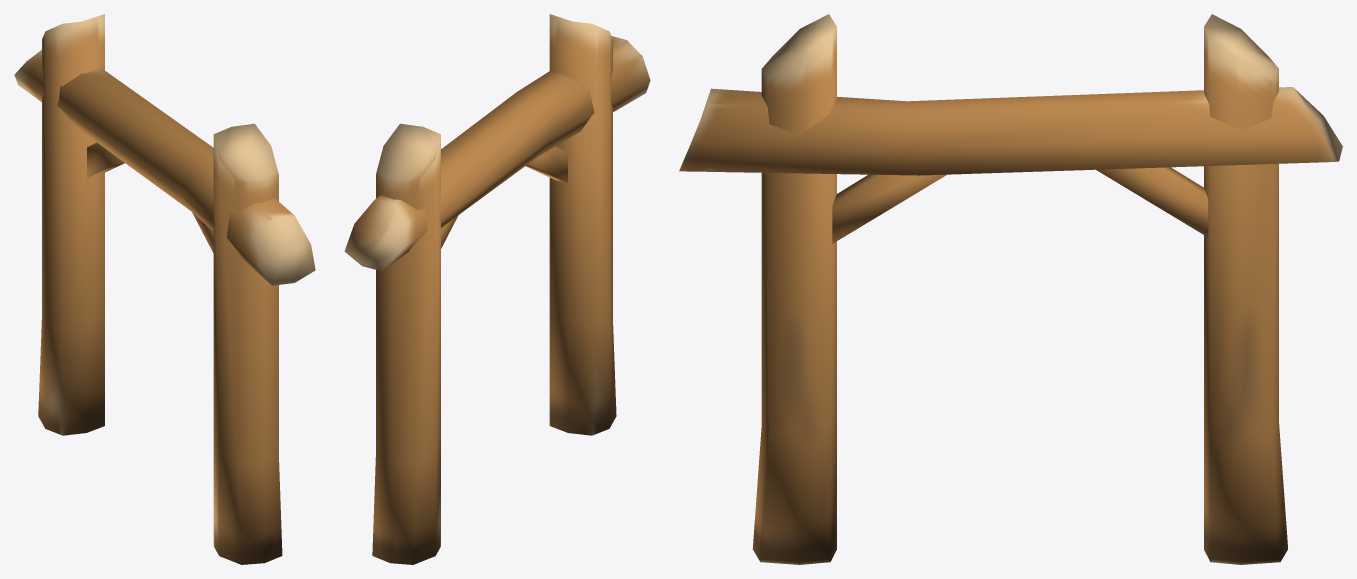
Rendered from gate.fbx.
3 renders of one model, left to right at view 1: azimuth 30°, elevation 25°; view 2: azimuth 150°, elevation 25°; view 3: azimuth 270°, elevation 25°, orthographic. The views are drawn at different scales.
Parts seen in each view (by area): view 1: gateright, gate, gatetop, plank2; view 2: gate, gateright, gatetop, plank1; view 3: gatetop, gate, gateright, plank2, plank1.
Part boxes in pixels (x1,y1,x2,y2): gateright: [213, 123, 282, 564]; gate: [38, 14, 104, 435]; gatetop: [14, 50, 315, 285]; plank2: [87, 142, 124, 177]; gate: [372, 123, 440, 564]; gateright: [549, 14, 616, 435]; gatetop: [344, 36, 650, 271]; plank1: [526, 146, 567, 182]; gatetop: [679, 87, 1342, 175]; gate: [1204, 14, 1287, 564]; gateright: [752, 14, 836, 564]; plank2: [1096, 167, 1208, 237]; plank1: [832, 174, 946, 243].
Bounding box in the file's own units: 304 × 1889 × 2176.
